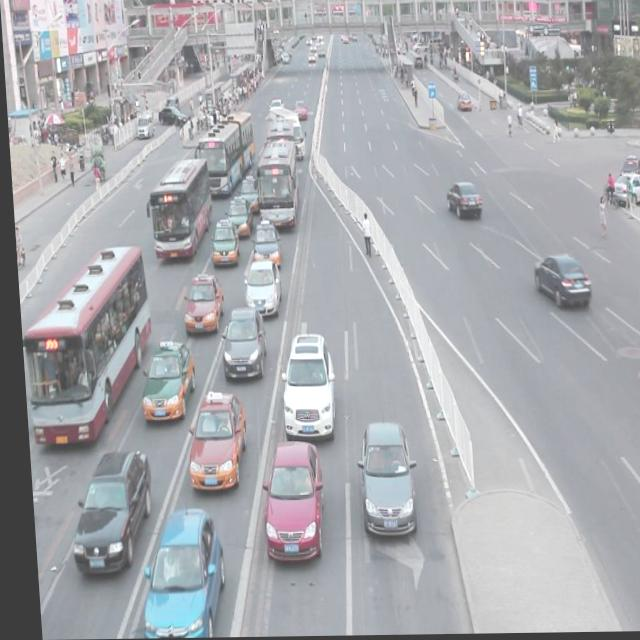bus: (265, 107, 304, 159)
car: (129, 509, 220, 638), (62, 450, 148, 570), (254, 441, 317, 558), (348, 422, 412, 536), (180, 389, 242, 488), (273, 335, 332, 438), (134, 342, 192, 418), (213, 308, 263, 380), (528, 253, 586, 309), (176, 274, 219, 334), (239, 259, 278, 314), (246, 219, 278, 268), (206, 218, 236, 265), (221, 195, 249, 238), (442, 183, 477, 217), (607, 173, 640, 207), (234, 175, 258, 211)
van: (13, 245, 150, 438), (140, 159, 212, 259), (191, 115, 254, 194), (251, 137, 298, 230), (262, 121, 297, 173)
